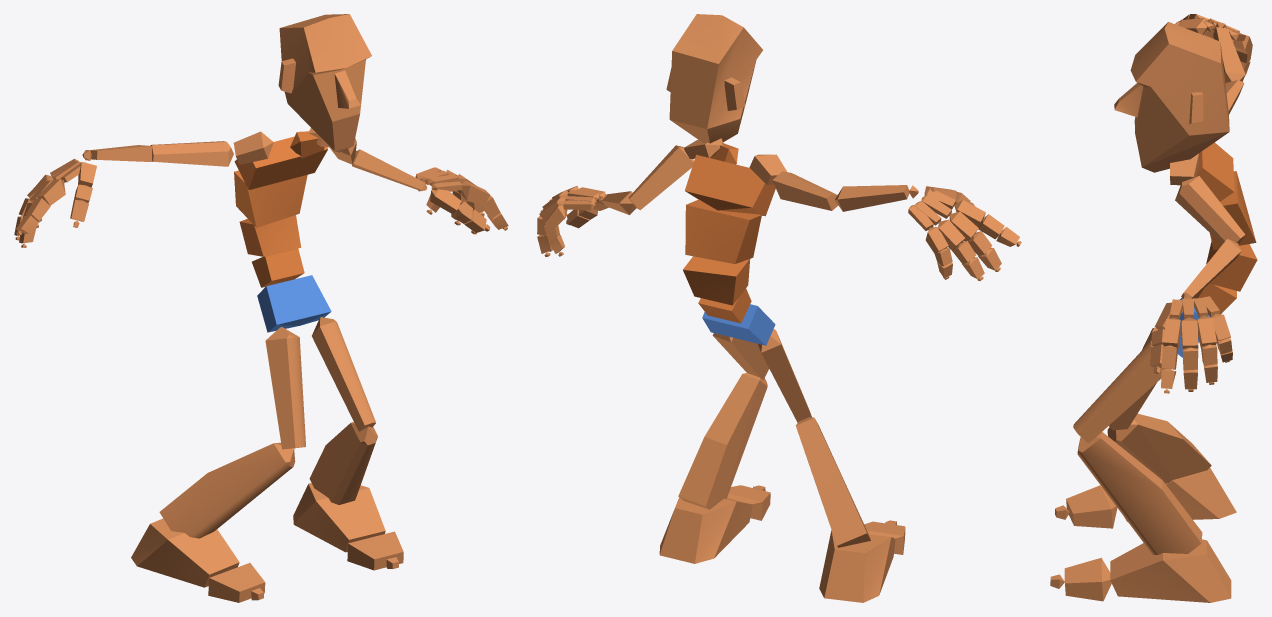
Rendered from personaje318.obj.
3 renders of one model, left to right at view 1: azimuth 30°, elevation 25°; view 2: azimuth 150°, elevation 25°; view 3: azimuth 270°, elevation 25°, orthographic. The views are drawn at different scales.
Parts seen in each view (by area): view 1: BOPED_Head, BOPED_R_leg, BOPED_R_foot, BOPED_R_foot01, BOPED_R_legup, BOPED_L_leg, BOPED_L_legup, Bone01, Bone04, Bone05, Bone03, BOPED_R_arm_upper (+6 smaller); view 2: BOPED_Head, BOPED_L_leg, BOPED_R_foot01, BOPED_R_foot, BOPED_R_leg, Bone04, Bone05, Bone03, BOPED_R_legup, BOPED_L_arm_upper, Bone01, BOPED_R_arm_upper (+6 smaller); view 3: BOPED_Head, BOPED_L_leg, BOPED_R_foot01, BOPED_R_leg, BOPED_L_legup, BOPED_R_foot, BOPED_L_arm_upper, BOPED_R_foot_toe01, BOPED_R_foot_toe04, Bone05, Bone03, BOPED_L_arm_fore (+14 smaller).
Boxes of the visible parts, x1=… form: BOPED_Head: x1=278, y1=14, x2=371, y2=152; BOPED_R_leg: x1=159, y1=442, x2=295, y2=538; BOPED_R_foot: x1=131, y1=518, x2=239, y2=587; BOPED_R_foot01: x1=293, y1=483, x2=385, y2=552; BOPED_R_legup: x1=265, y1=327, x2=305, y2=449; BOPED_L_leg: x1=309, y1=422, x2=377, y2=504; BOPED_L_legup: x1=312, y1=317, x2=375, y2=431; Bone01: x1=257, y1=275, x2=331, y2=332; Bone04: x1=234, y1=170, x2=307, y2=227; Bone05: x1=234, y1=136, x2=327, y2=189; Bone03: x1=239, y1=215, x2=301, y2=256; BOPED_R_arm_upper: x1=150, y1=141, x2=233, y2=166; BOPED_Head: x1=666, y1=14, x2=762, y2=143; BOPED_L_leg: x1=678, y1=373, x2=767, y2=509; BOPED_R_foot01: x1=659, y1=497, x2=752, y2=563; BOPED_R_foot: x1=819, y1=530, x2=895, y2=602; BOPED_R_leg: x1=795, y1=417, x2=870, y2=547; Bone04: x1=685, y1=200, x2=761, y2=263; Bone05: x1=685, y1=154, x2=775, y2=216; Bone03: x1=683, y1=256, x2=750, y2=305; BOPED_R_legup: x1=758, y1=329, x2=811, y2=422; BOPED_L_arm_upper: x1=628, y1=145, x2=693, y2=210; Bone01: x1=702, y1=304, x2=775, y2=345; BOPED_R_arm_upper: x1=772, y1=171, x2=838, y2=210; BOPED_Head: x1=1114, y1=22, x2=1229, y2=172; BOPED_L_leg: x1=1077, y1=432, x2=1202, y2=554; BOPED_R_foot01: x1=1110, y1=539, x2=1231, y2=602; BOPED_R_leg: x1=1107, y1=413, x2=1211, y2=483; BOPED_L_legup: x1=1073, y1=340, x2=1170, y2=442; BOPED_R_foot: x1=1124, y1=468, x2=1236, y2=521; BOPED_L_arm_upper: x1=1175, y1=176, x2=1245, y2=244; BOPED_R_foot_toe01: x1=1066, y1=485, x2=1117, y2=528; BOPED_R_foot_toe04: x1=1064, y1=557, x2=1111, y2=601; Bone05: x1=1196, y1=142, x2=1234, y2=201; Bone03: x1=1206, y1=241, x2=1257, y2=291; BOPED_L_arm_fore: x1=1181, y1=239, x2=1241, y2=298.
Size of the model in its own units: 162 by 167 by 56.5.
